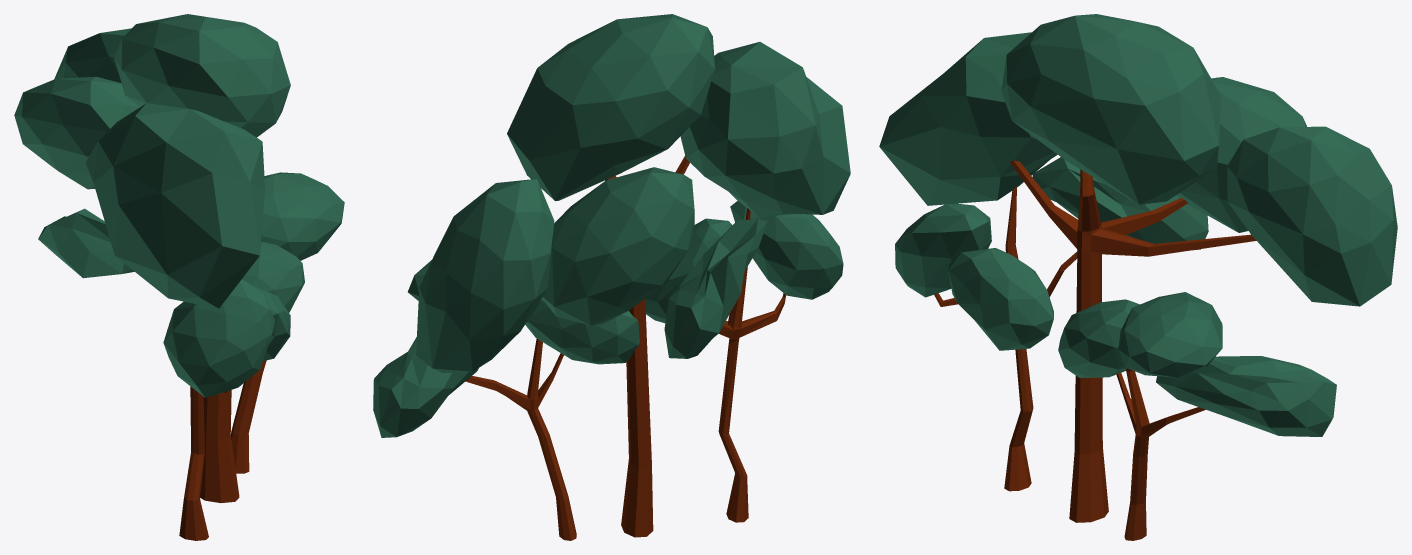
The model's file is tree_05.FBX.
3 views of the same model, side by side, from view 1: azimuth 30°, elevation 25°; view 2: azimuth 150°, elevation 25°; view 3: azimuth 270°, elevation 25° (orthographic). The views are drawn at different scales.
Parts seen in each view (by area): view 1: tree_05; view 2: tree_05; view 3: tree_05.
Boxes of the visible parts, x1=… form: tree_05: x1=14, y1=14, x2=344, y2=540; tree_05: x1=373, y1=14, x2=850, y2=540; tree_05: x1=879, y1=14, x2=1397, y2=540.
Bounding box in the file's own units: 6.57 × 9.98 × 9.63.
Materials: 1 (1 with a texture image).
